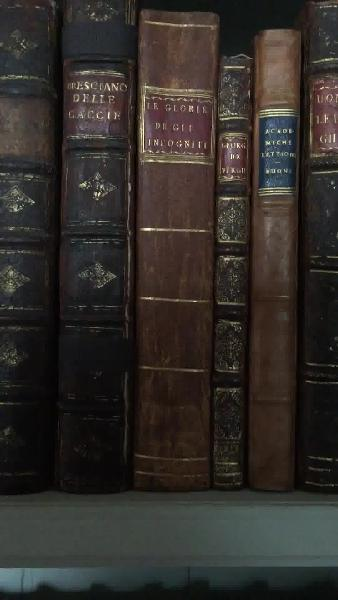Aa6-31: (9, 10, 61, 500)
Aa6-32: (62, 9, 135, 498)
Aa6-33: (136, 5, 213, 493)
Aa6-34: (209, 40, 250, 496)
Aa6-35: (246, 30, 299, 491)
